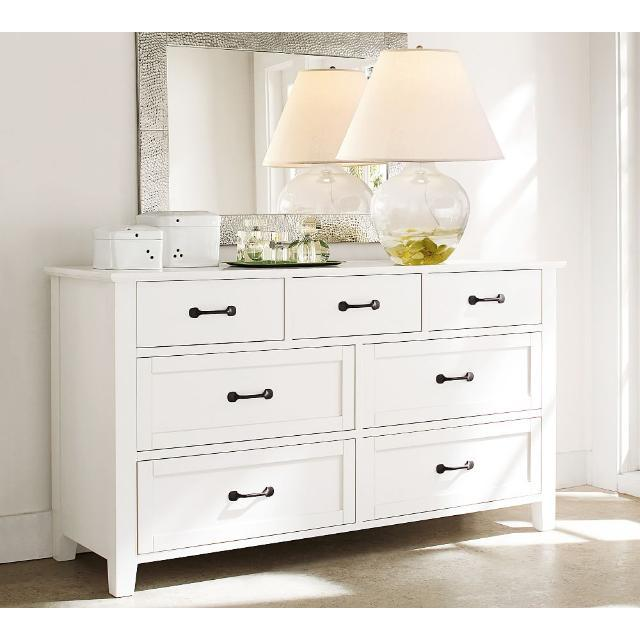dresser: (52, 254, 578, 602)
